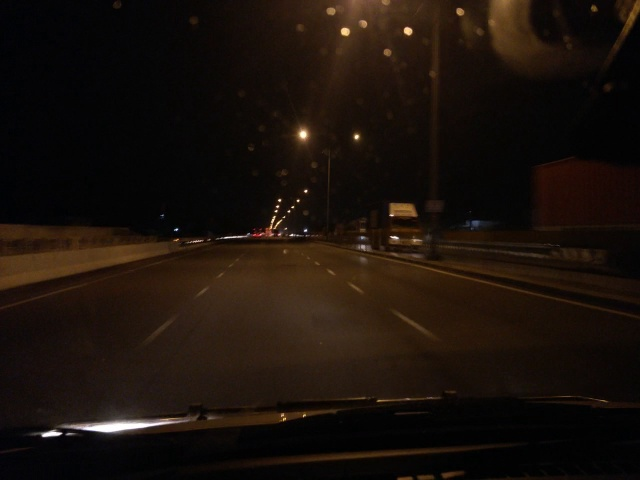truck: (348, 197, 424, 254)
